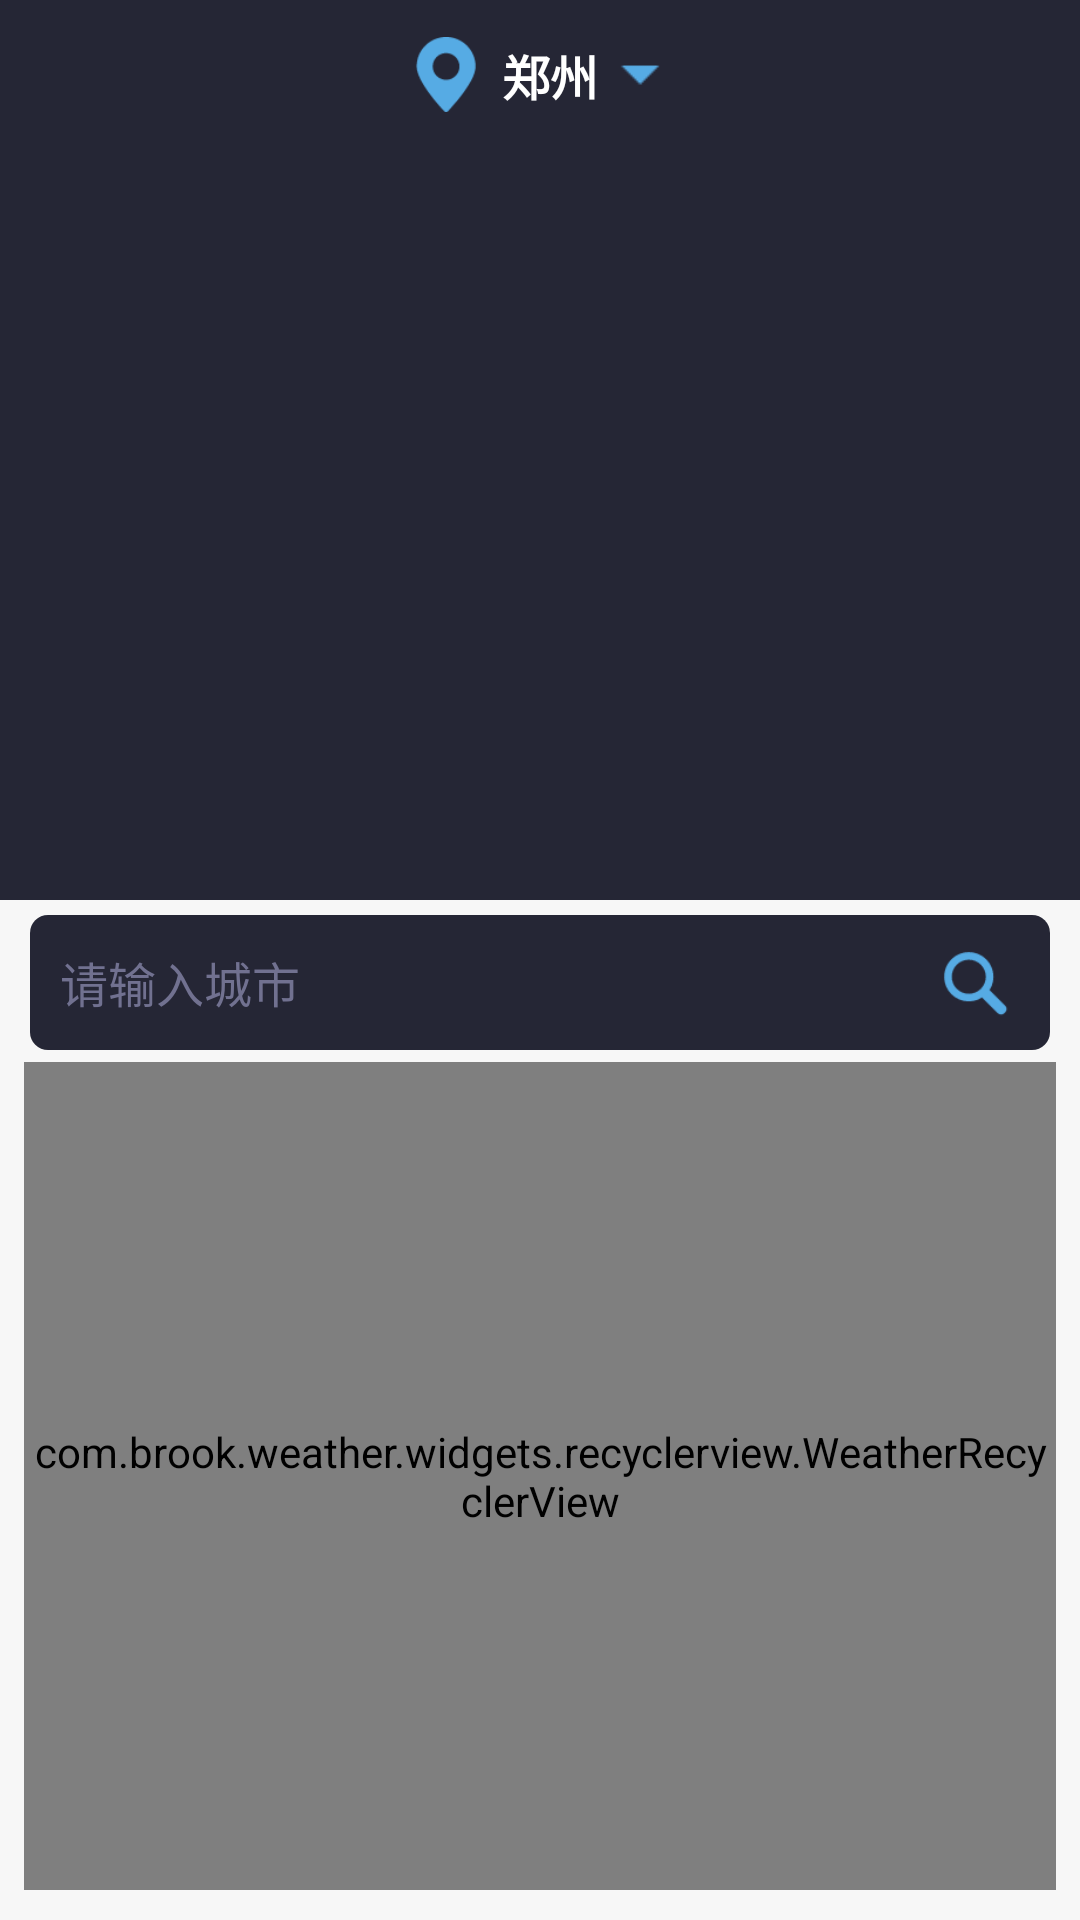

Screen size 1080x1920. Icon name, then its box in pixels as Rect(x1, y1, x2, y2):
home search: Rect(944, 952, 1007, 1015)
location: Rect(416, 37, 476, 112)
